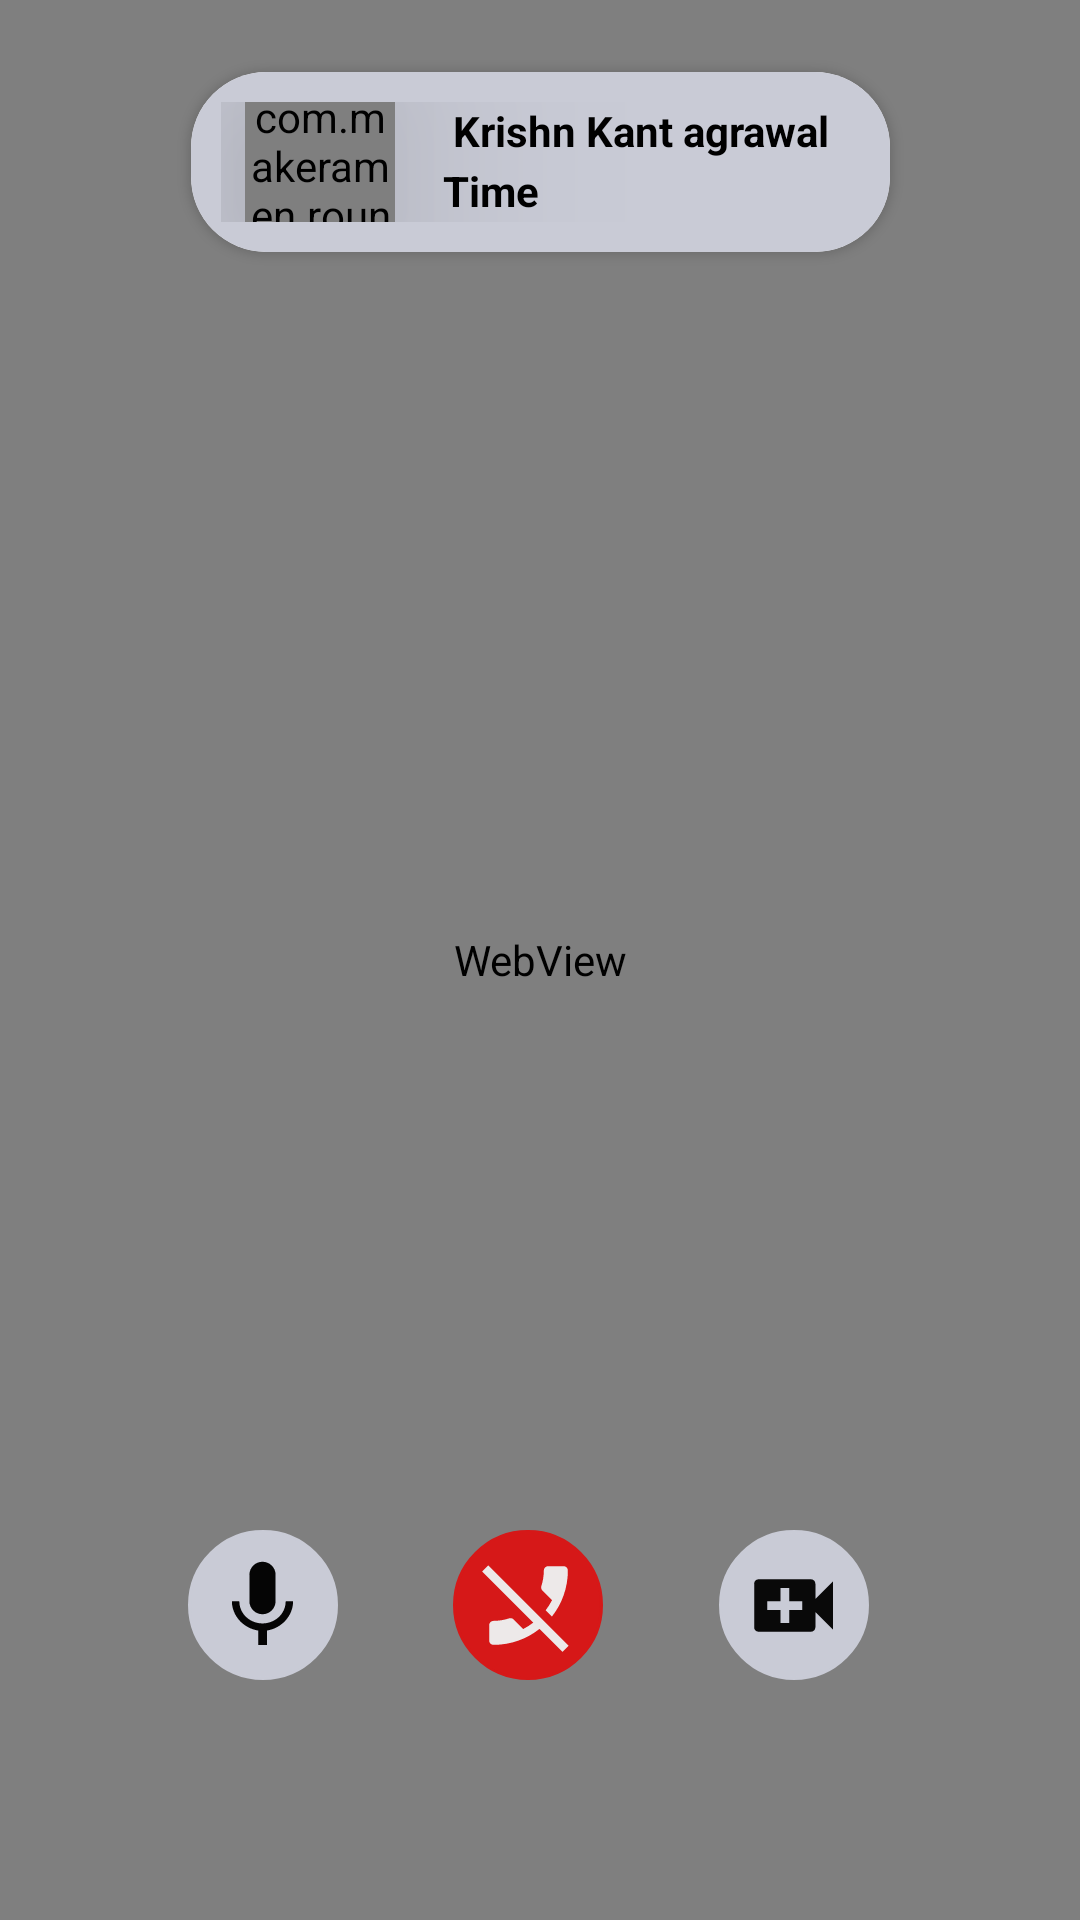

Locate icon controls on the screen. Image size 1080px x 1920px, boxes as region(x1, y1, x2, y2).
call decline: region(482, 1565, 569, 1652)
mic on: region(232, 1561, 293, 1645)
video call: region(754, 1579, 833, 1632)
